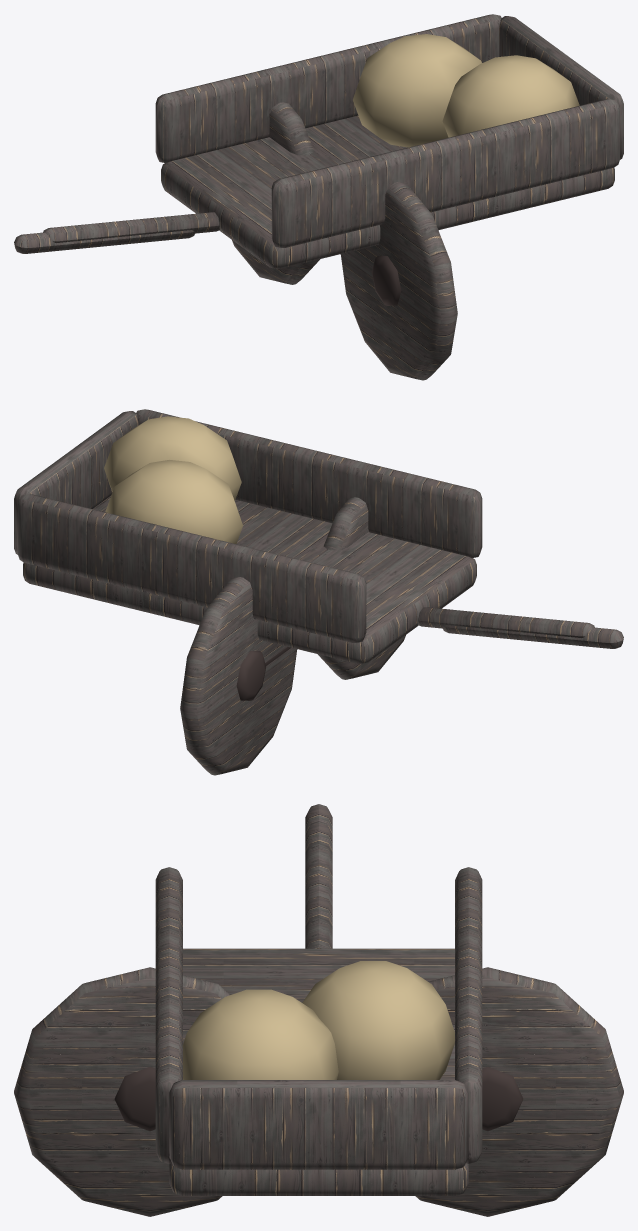
The model's file is cart.gltf.
3 views of the same model, one above another, from view 1: azimuth 30°, elevation 25°; view 2: azimuth 150°, elevation 25°; view 3: azimuth 270°, elevation 25° (orthographic). The views are drawn at different scales.
Visible parts, largest first — view 1: cart; view 2: cart; view 3: cart.
Boxes of the visible parts, x1=… form: cart: x1=14, y1=14, x2=623, y2=380; cart: x1=14, y1=409, x2=623, y2=775; cart: x1=14, y1=804, x2=623, y2=1216.
Bounding box in the file's own units: 3.05 × 1.27 × 2.24.
2 materials, 2 textured.
